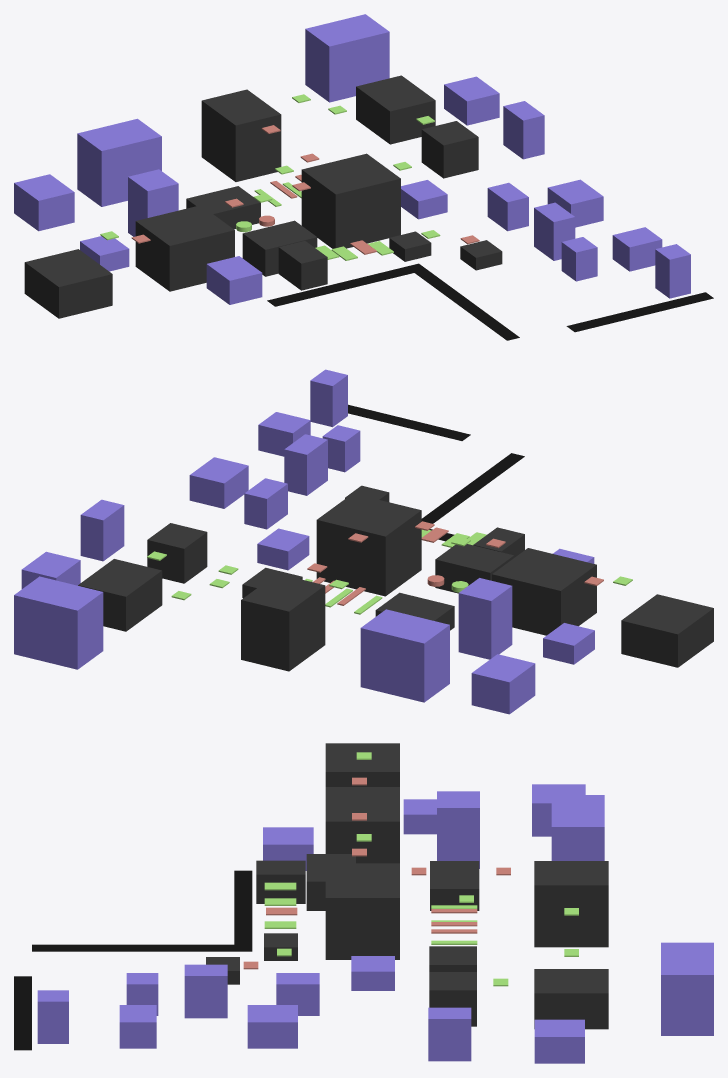
Rendered from grup2 plansa 1.fbx.
3 renders of one model, top to bottom at view 1: azimuth 30°, elevation 25°; view 2: azimuth 150°, elevation 25°; view 3: azimuth 270°, elevation 25°, orthographic. The views are drawn at different scales.
Parts seen in each view (by area): view 1: Box051, Box052, Box050, Box057, Box054, Box058, Box048, Box053, Box047, Box046, Box034, Box044 (+17 smaller); view 2: Box051, Box054, Box057, Box050, Box052, Box058, Box046, Box048, Box053, Box047, Box042, Box055 (+14 smaller); view 3: Box051, Box050, Box052, Box057, Box048, Box054, Box058, Box046, Box040, Box055, Box056, Box042 (+18 smaller).
Boxes of the visible parts, left/top/right/bottom form: Box051: left=301, top=153, right=400, bottom=248; Box052: left=135, top=205, right=234, bottom=291; Box050: left=201, top=89, right=281, bottom=181; Box057: left=305, top=14, right=389, bottom=102; Box054: left=77, top=118, right=161, bottom=206; Box058: left=24, top=249, right=112, bottom=318; Box048: left=356, top=75, right=435, bottom=144; Box053: left=14, top=174, right=74, bottom=231; Box047: left=421, top=121, right=478, bottom=178; Box046: left=128, top=169, right=178, bottom=236; Box034: left=242, top=220, right=317, bottom=276; Box044: left=206, top=256, right=262, bottom=304; Box051: left=316, top=493, right=421, bottom=596; Box054: left=360, top=609, right=449, bottom=702; Box057: left=14, top=576, right=103, bottom=669; Box050: left=241, top=573, right=325, bottom=671; Box052: left=492, top=548, right=596, bottom=635; Box058: left=621, top=594, right=713, bottom=667; Box046: left=458, top=578, right=512, bottom=659; Box048: left=78, top=559, right=162, bottom=631; Box053: left=471, top=654, right=535, bottom=714; Box047: left=147, top=523, right=207, bottom=583; Box042: left=189, top=457, right=248, bottom=508; Box055: left=80, top=499, right=124, bottom=561; Box051: left=325, top=863, right=399, bottom=959; Box050: left=534, top=861, right=608, bottom=947; Box052: left=325, top=787, right=399, bottom=863; Box057: left=661, top=942, right=713, bottom=1035; Box048: left=534, top=969, right=608, bottom=1029; Box054: left=551, top=795, right=604, bottom=860; Box058: left=325, top=743, right=399, bottom=786; Box046: left=437, top=791, right=479, bottom=868; Box040: left=184, top=964, right=227, bottom=1018; Box055: left=428, top=1007, right=471, bottom=1061; Box056: left=534, top=1019, right=584, bottom=1063; Box042: left=247, top=1005, right=297, bottom=1048.
Size of the model in its own units: 538 by 55.75 by 557.
